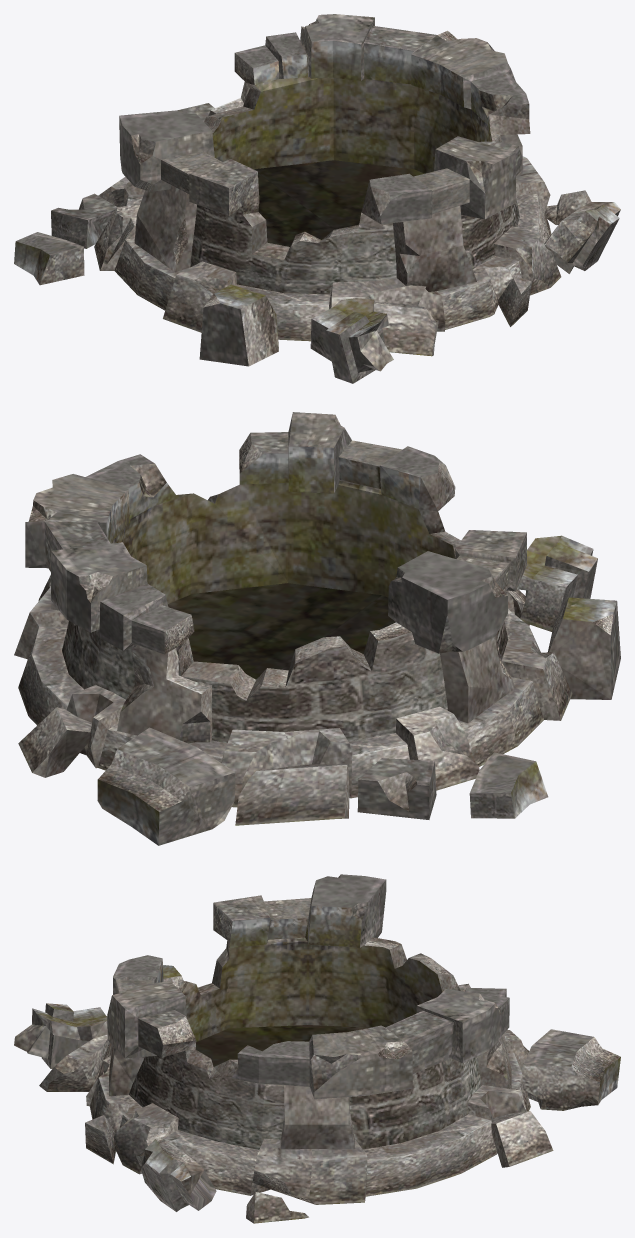
Rendered from bg_anh_etc_wl02_05_sm_old.FBX.
3 views of the same model, one above another, from view 1: azimuth 30°, elevation 25°; view 2: azimuth 150°, elevation 25°; view 3: azimuth 270°, elevation 25° (orthographic). The views are drawn at different scales.
Visible parts, largest first — view 1: bg_anh_etc_wl02_05_sm_old; view 2: bg_anh_etc_wl02_05_sm_old; view 3: bg_anh_etc_wl02_05_sm_old.
Part boxes in pixels (box(x1,y1,x2,y2)): bg_anh_etc_wl02_05_sm_old: box(14, 14, 620, 383); bg_anh_etc_wl02_05_sm_old: box(14, 412, 620, 845); bg_anh_etc_wl02_05_sm_old: box(14, 874, 620, 1223).
Size of the model in its own units: 280 by 87.3 by 304.
